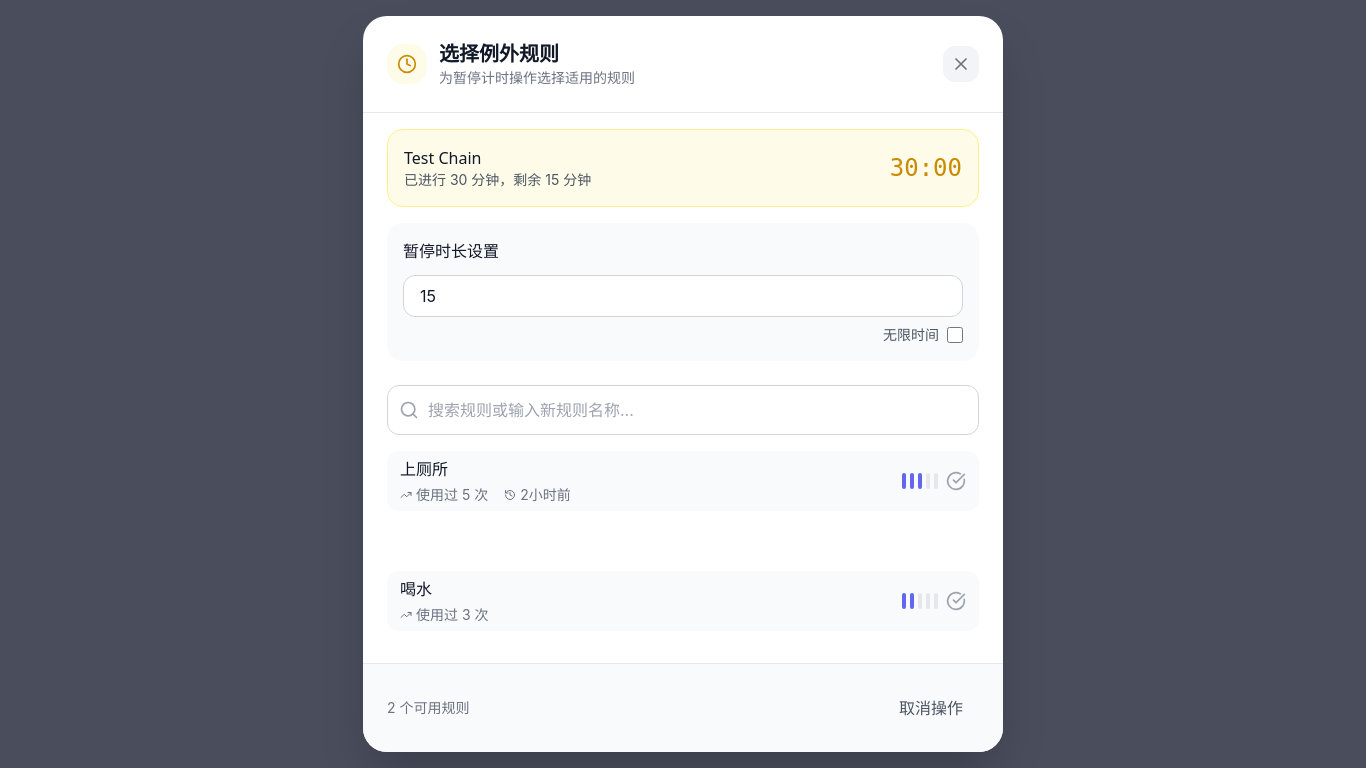
Scenario: RuleSelectionDialog › pause options › should show unlimited time option
Click the checkbox labelled "无限时间" at (955, 335), box [947,327,963,343]
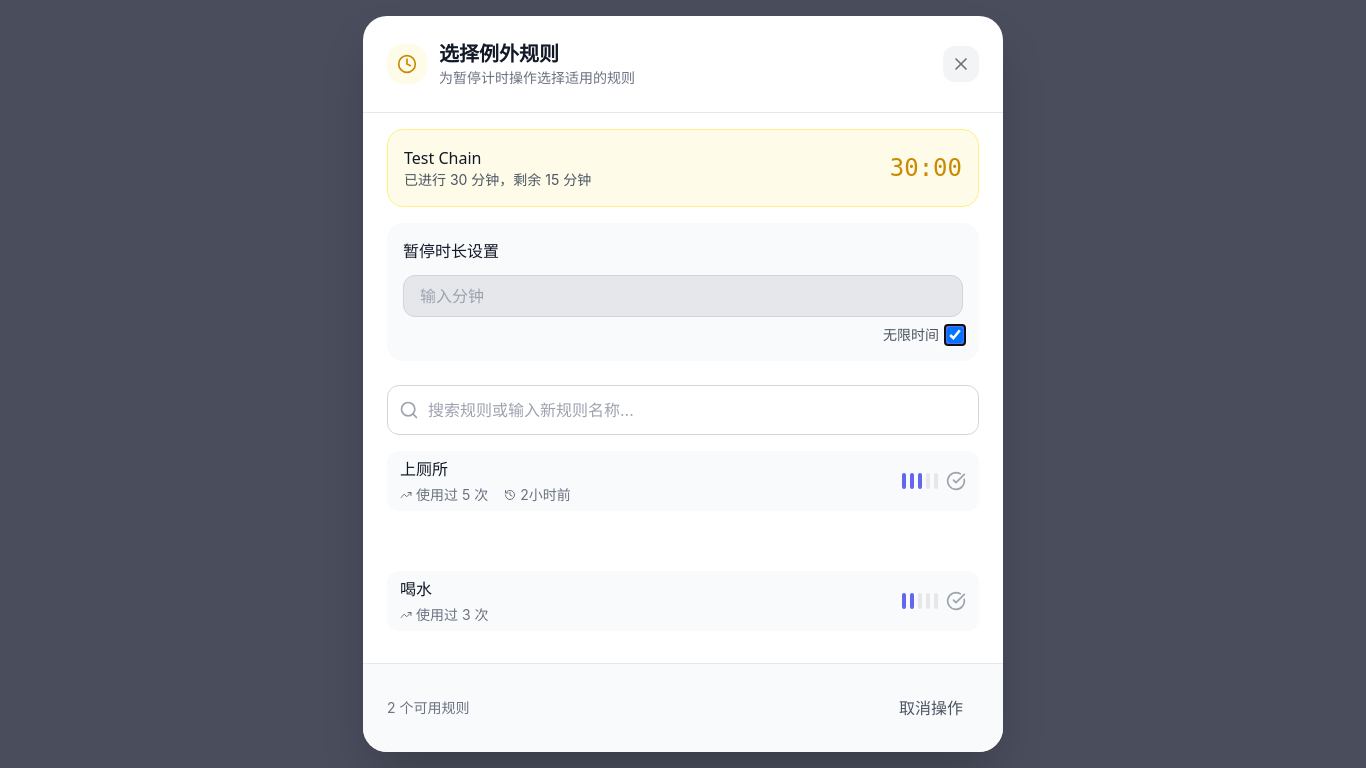
Now the checkbox labelled "无限时间" is checked, box [947,327,963,343]
Now the number field named "暂停时长（分钟）" is disabled, box [403,275,963,317]
